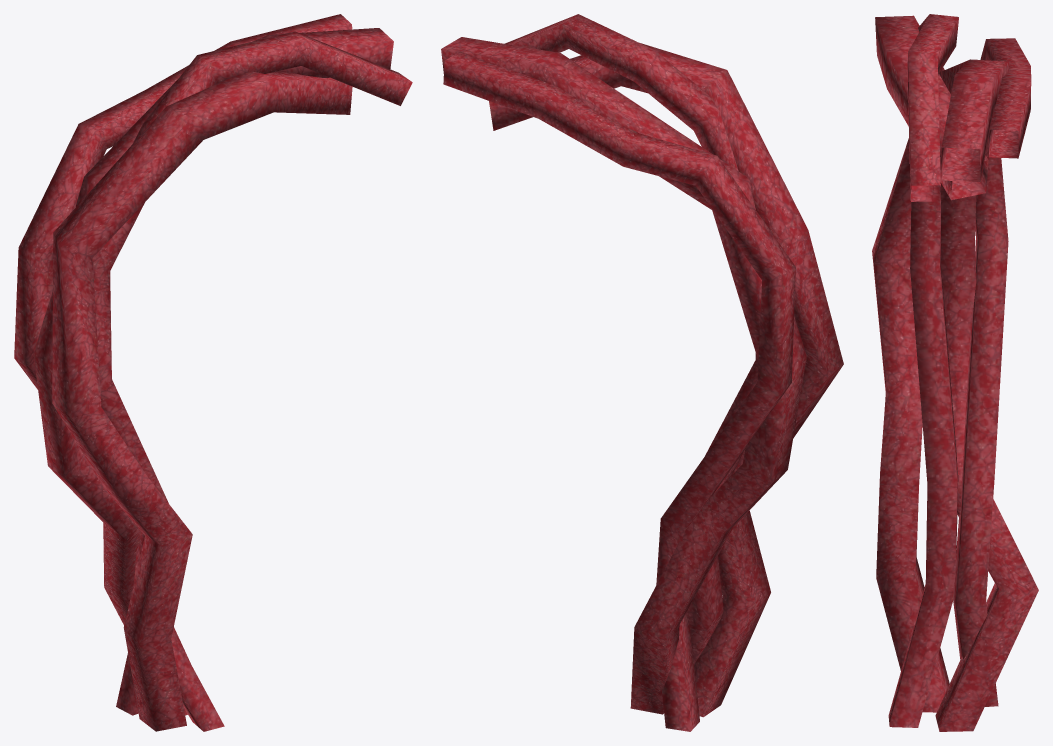
Rendered from NervesBend.fbx.
3 renders of one model, left to right at view 1: azimuth 30°, elevation 25°; view 2: azimuth 150°, elevation 25°; view 3: azimuth 270°, elevation 25°, orthographic. The views are drawn at different scales.
Visible parts, largest first — view 1: Cylinder.003; view 2: Cylinder.003; view 3: Cylinder.003.
Part boxes in pixels (x1,y1,x2,y2): Cylinder.003: (14,14,412,731); Cylinder.003: (441,14,843,731); Cylinder.003: (872,14,1038,731).
Bounding box in the file's own units: 44.51 × 77.57 × 16.22.
